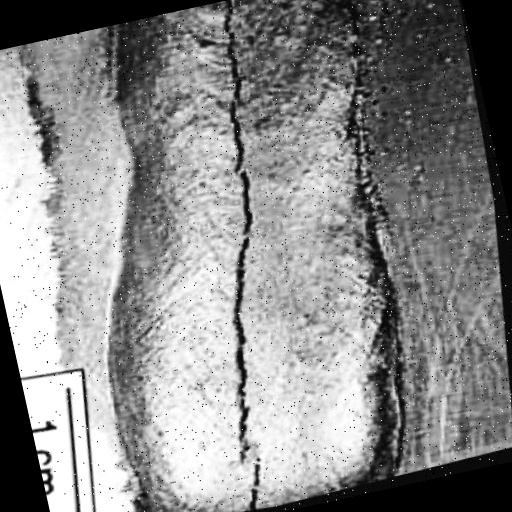crack: (130, 0, 351, 512)
